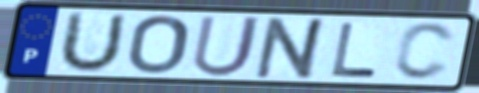C: (391, 21, 459, 83)
L: (329, 21, 381, 79)
N: (251, 15, 333, 82)
O: (125, 14, 192, 76)
U: (54, 9, 130, 75), (189, 14, 265, 79)
